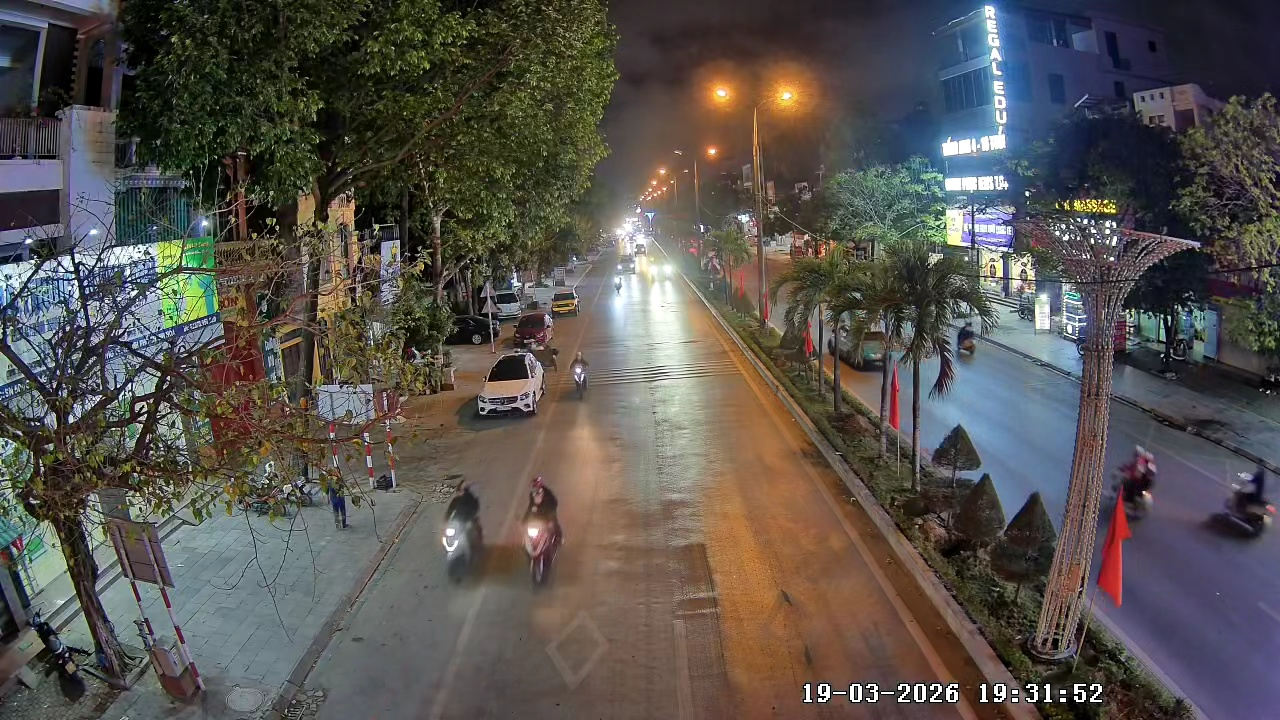car: (475, 348, 547, 418), (513, 310, 554, 348), (551, 284, 580, 316)
motorbike: (519, 476, 566, 588), (441, 477, 487, 581), (1113, 441, 1159, 526), (569, 349, 590, 400), (612, 273, 628, 297)
